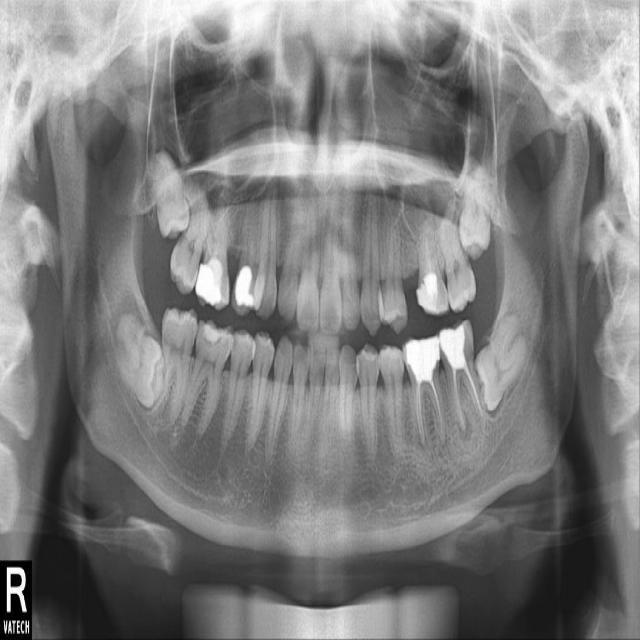3M ESPE Implant: (147, 149, 194, 242)
52: (186, 315, 239, 370), (432, 317, 482, 371), (227, 261, 270, 321), (402, 335, 443, 382), (195, 255, 229, 310), (414, 272, 450, 318)
73: (441, 357, 492, 439), (410, 374, 448, 452), (196, 197, 230, 256), (417, 216, 441, 275), (595, 528, 598, 546)
BioHorizons Implant: (435, 201, 478, 313)
BioLife Implant: (457, 153, 496, 261)
Biomet 3i Implant: (454, 310, 545, 414), (456, 310, 542, 416)
Blue Sky Bio Implant: (432, 318, 490, 434), (432, 318, 489, 433)
Caries: (164, 181, 216, 296)
Implant: (145, 306, 201, 423), (147, 304, 200, 421)
Keystone Dental Implant: (116, 320, 163, 409)
